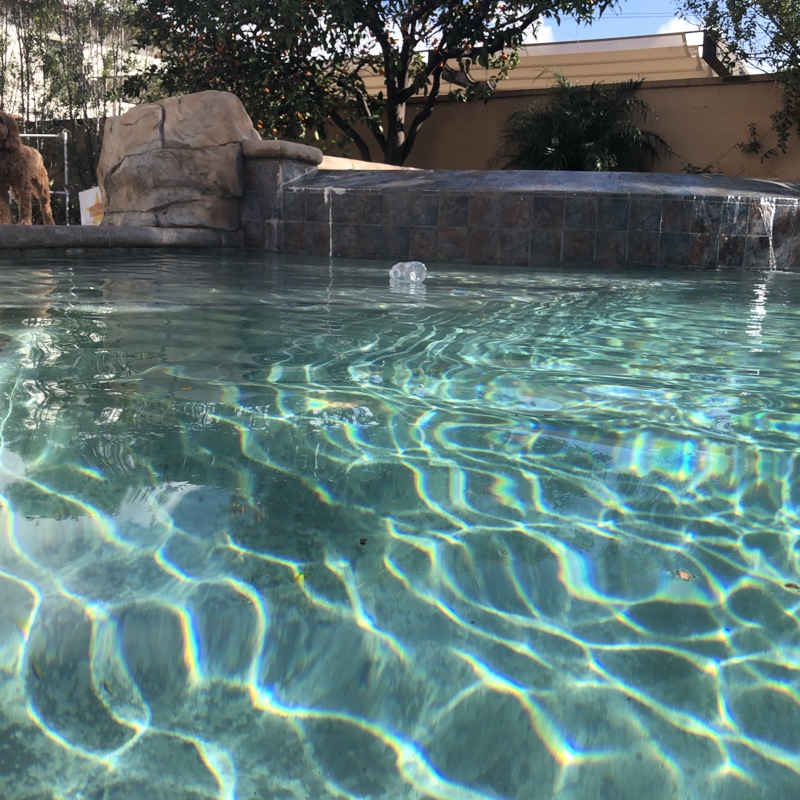Plastic Bottle: (384, 259, 428, 286)
